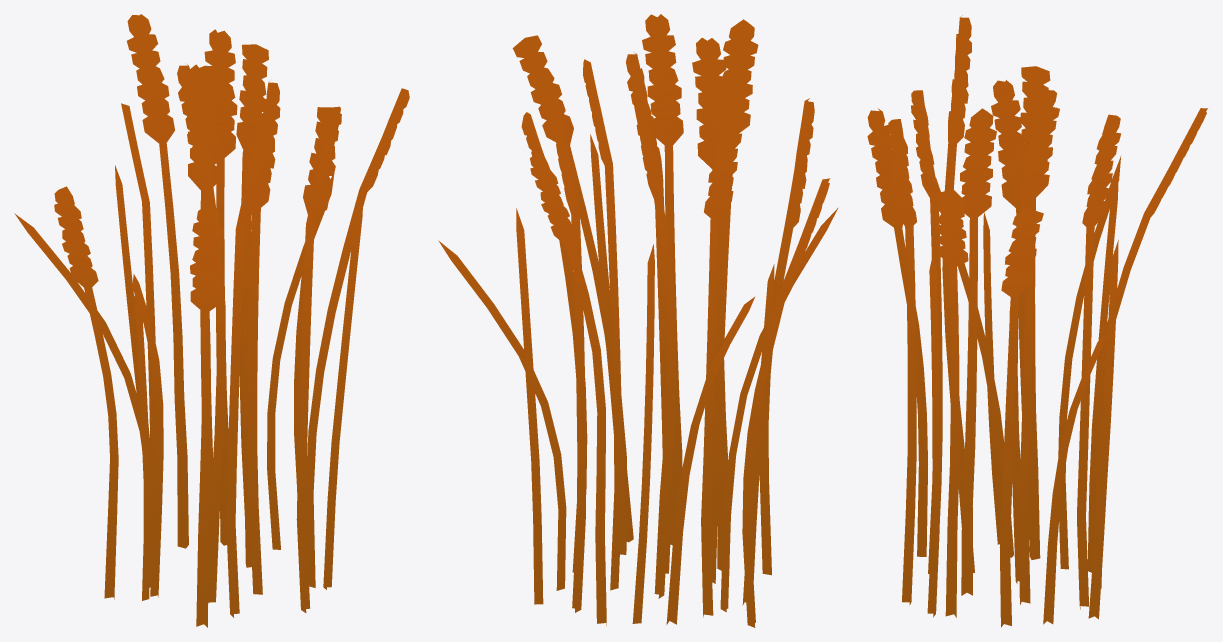
Rendered from nature_grass_wheat.glb.
3 renders of one model, left to right at view 1: azimuth 30°, elevation 25°; view 2: azimuth 150°, elevation 25°; view 3: azimuth 270°, elevation 25°, orthographic. The views are drawn at different scales.
Visible parts, largest first — view 1: nature_grass_wheat; view 2: nature_grass_wheat; view 3: nature_grass_wheat.
Part boxes in pixels (x1,y1,x2,y2): nature_grass_wheat: (14,14,409,627); nature_grass_wheat: (438,14,838,627); nature_grass_wheat: (867,15,1207,627).
Bounding box in the file's own units: 111 × 178 × 101.
1 material, 1 textured.
